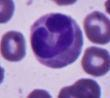E: (30, 12, 84, 71)
